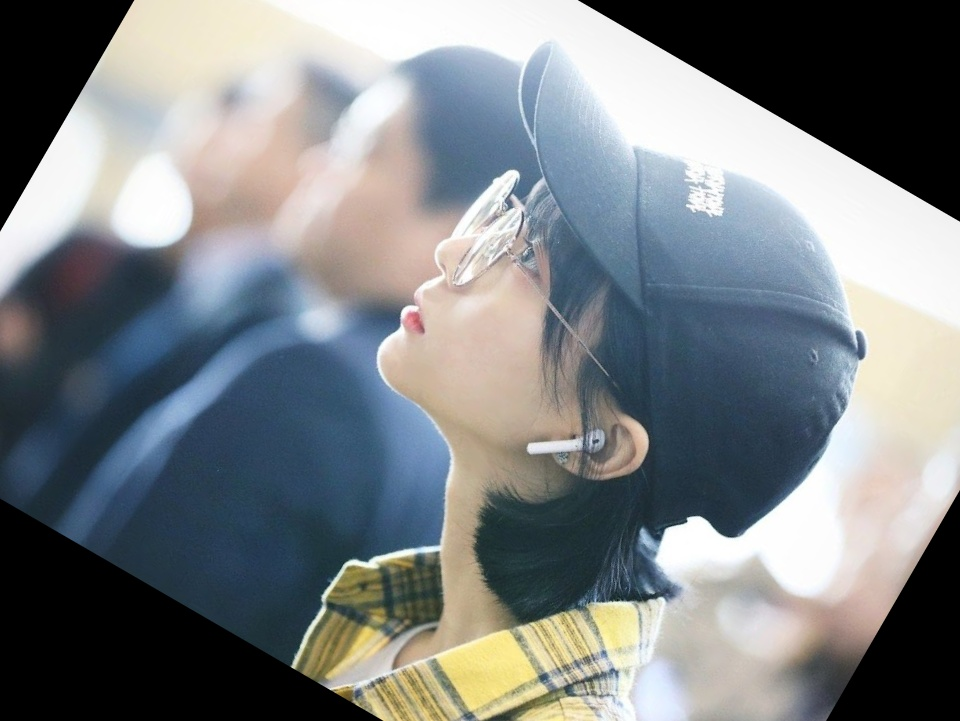earphone: (522, 379, 660, 508)
